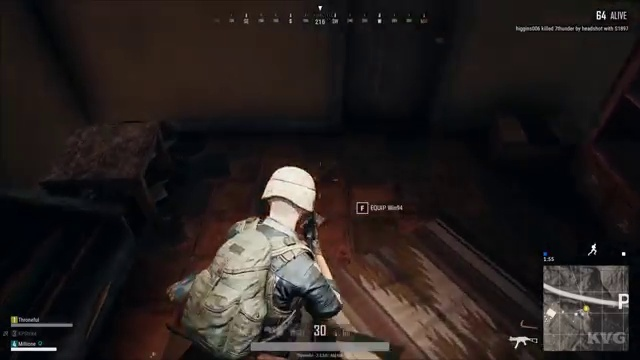Player: (182, 151, 389, 304)
